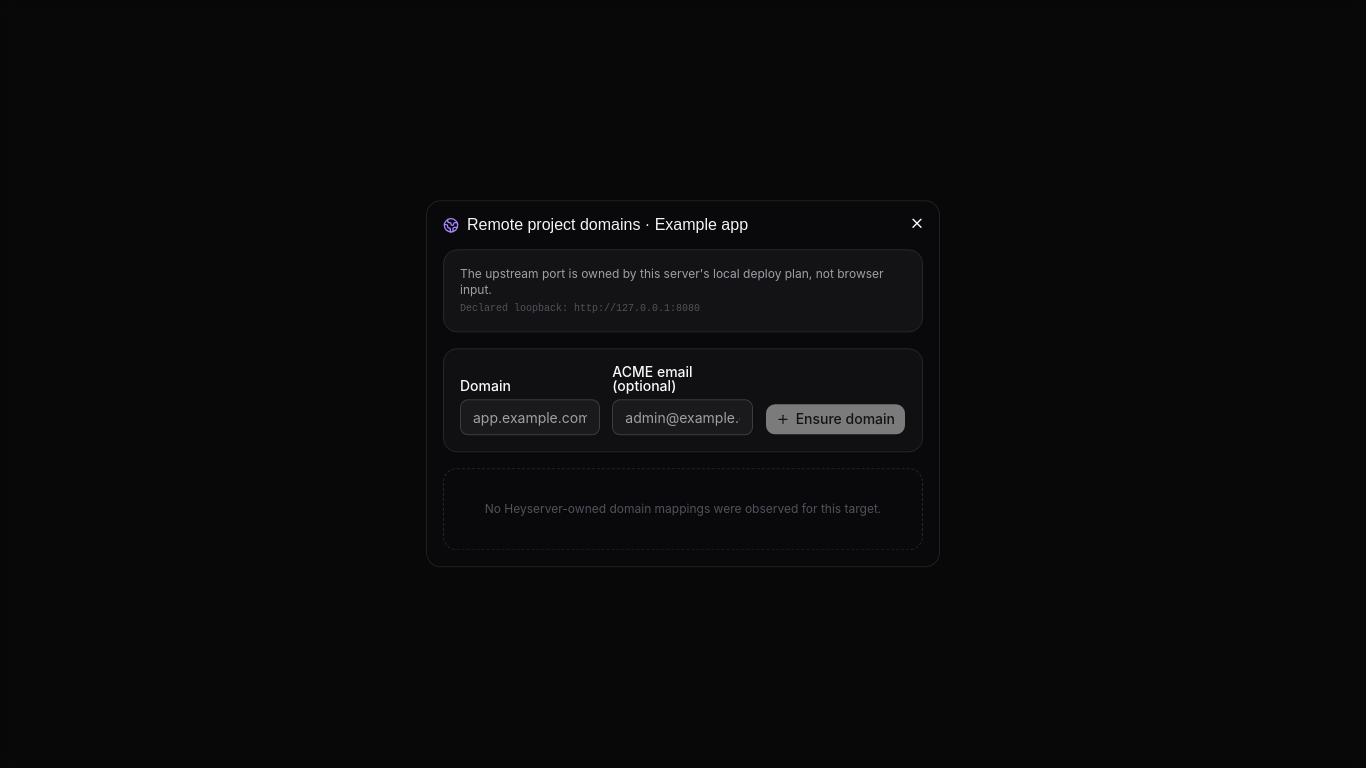
Test case: RemoteProjectDomainsDialog › refreshes inventory once after a stale ensure and never retries the same revision
Expected: the text "No Heyserver-owned domain mappings were observed for this target." is shown, [443,469,923,551]
Type "stale.example.com" into the field labelled "Domain".
click(530, 418); type("stale.example.com")  # box [460,400,600,436]
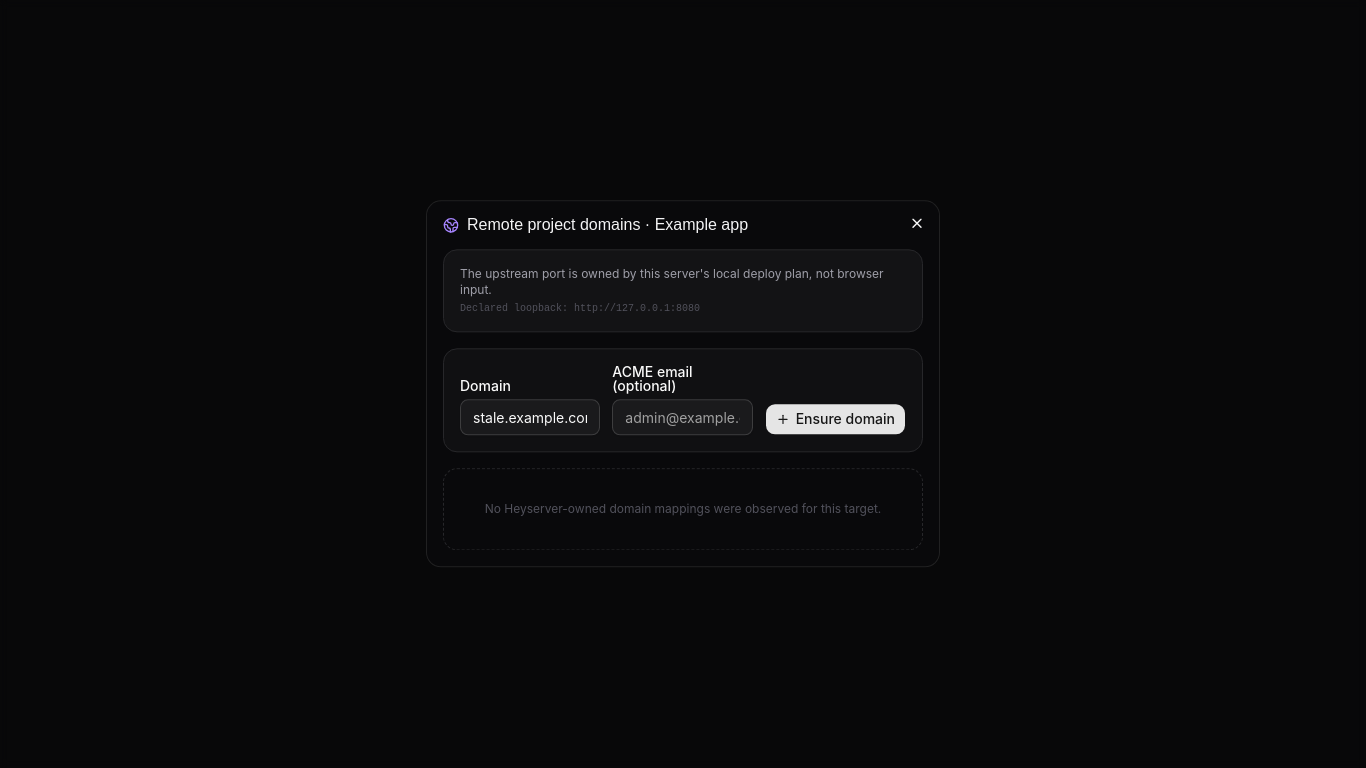
Click the button "Ensure domain".
click(835, 420)  # box [765,404,906,436]
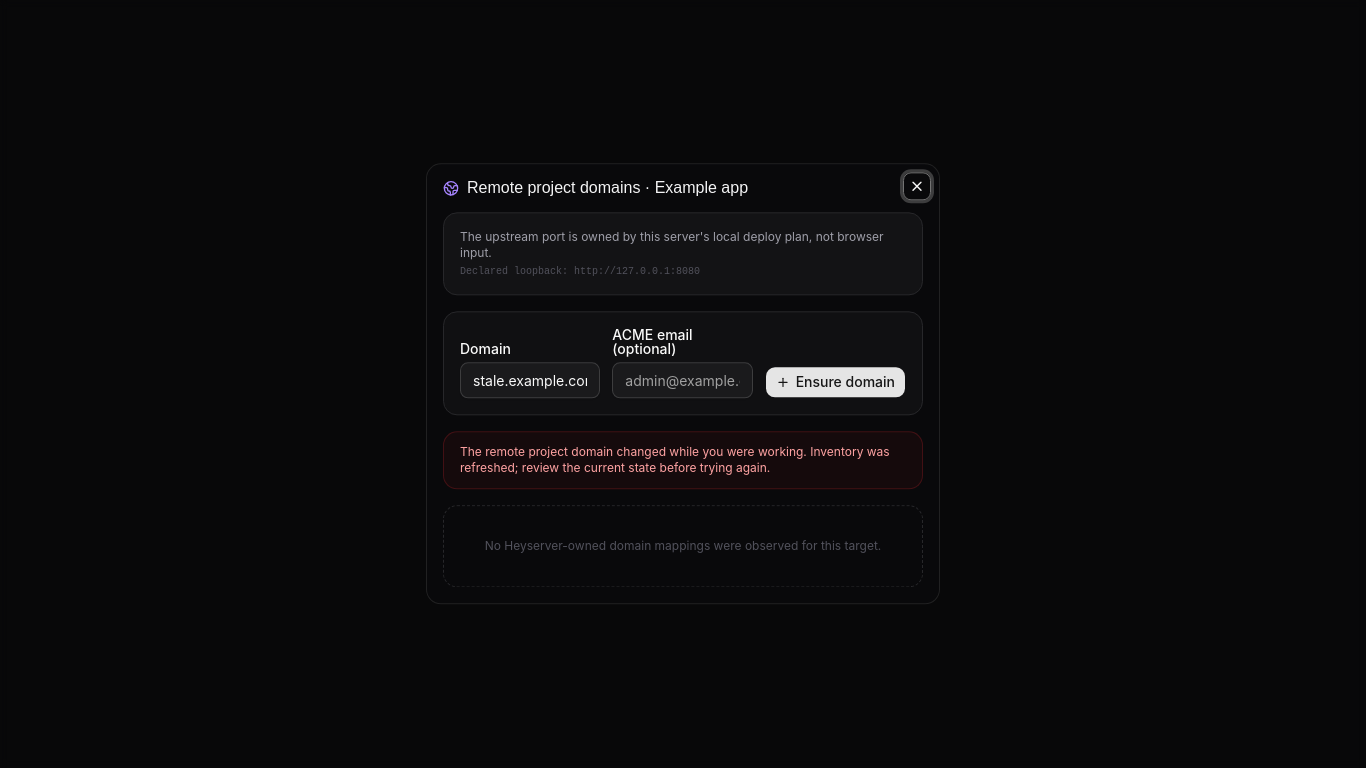
Expected: the message shows "The remote project domain changed while you were working.", [460,445,890,476]
